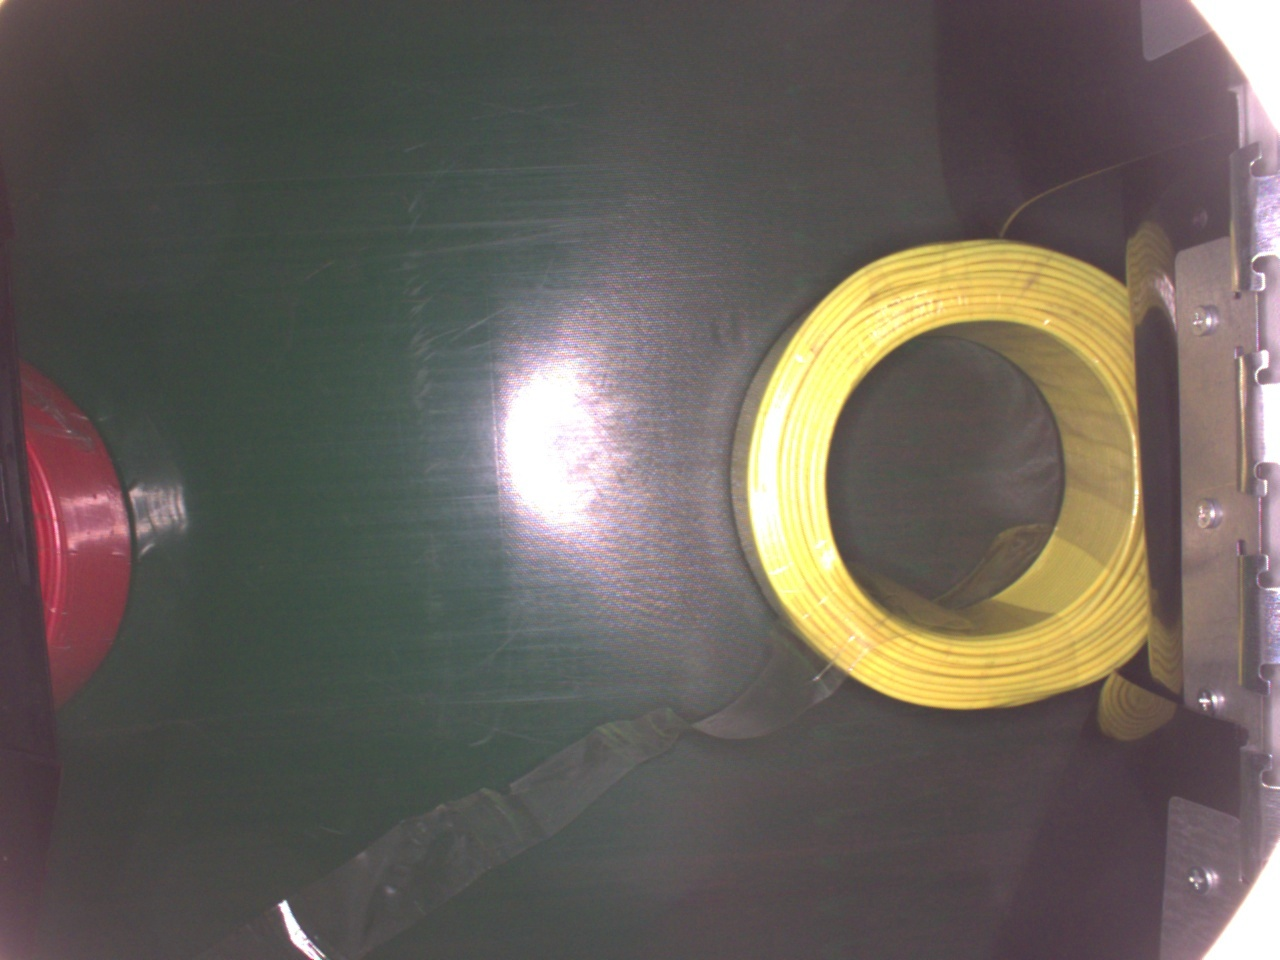yellow: (730, 233, 1150, 707)
